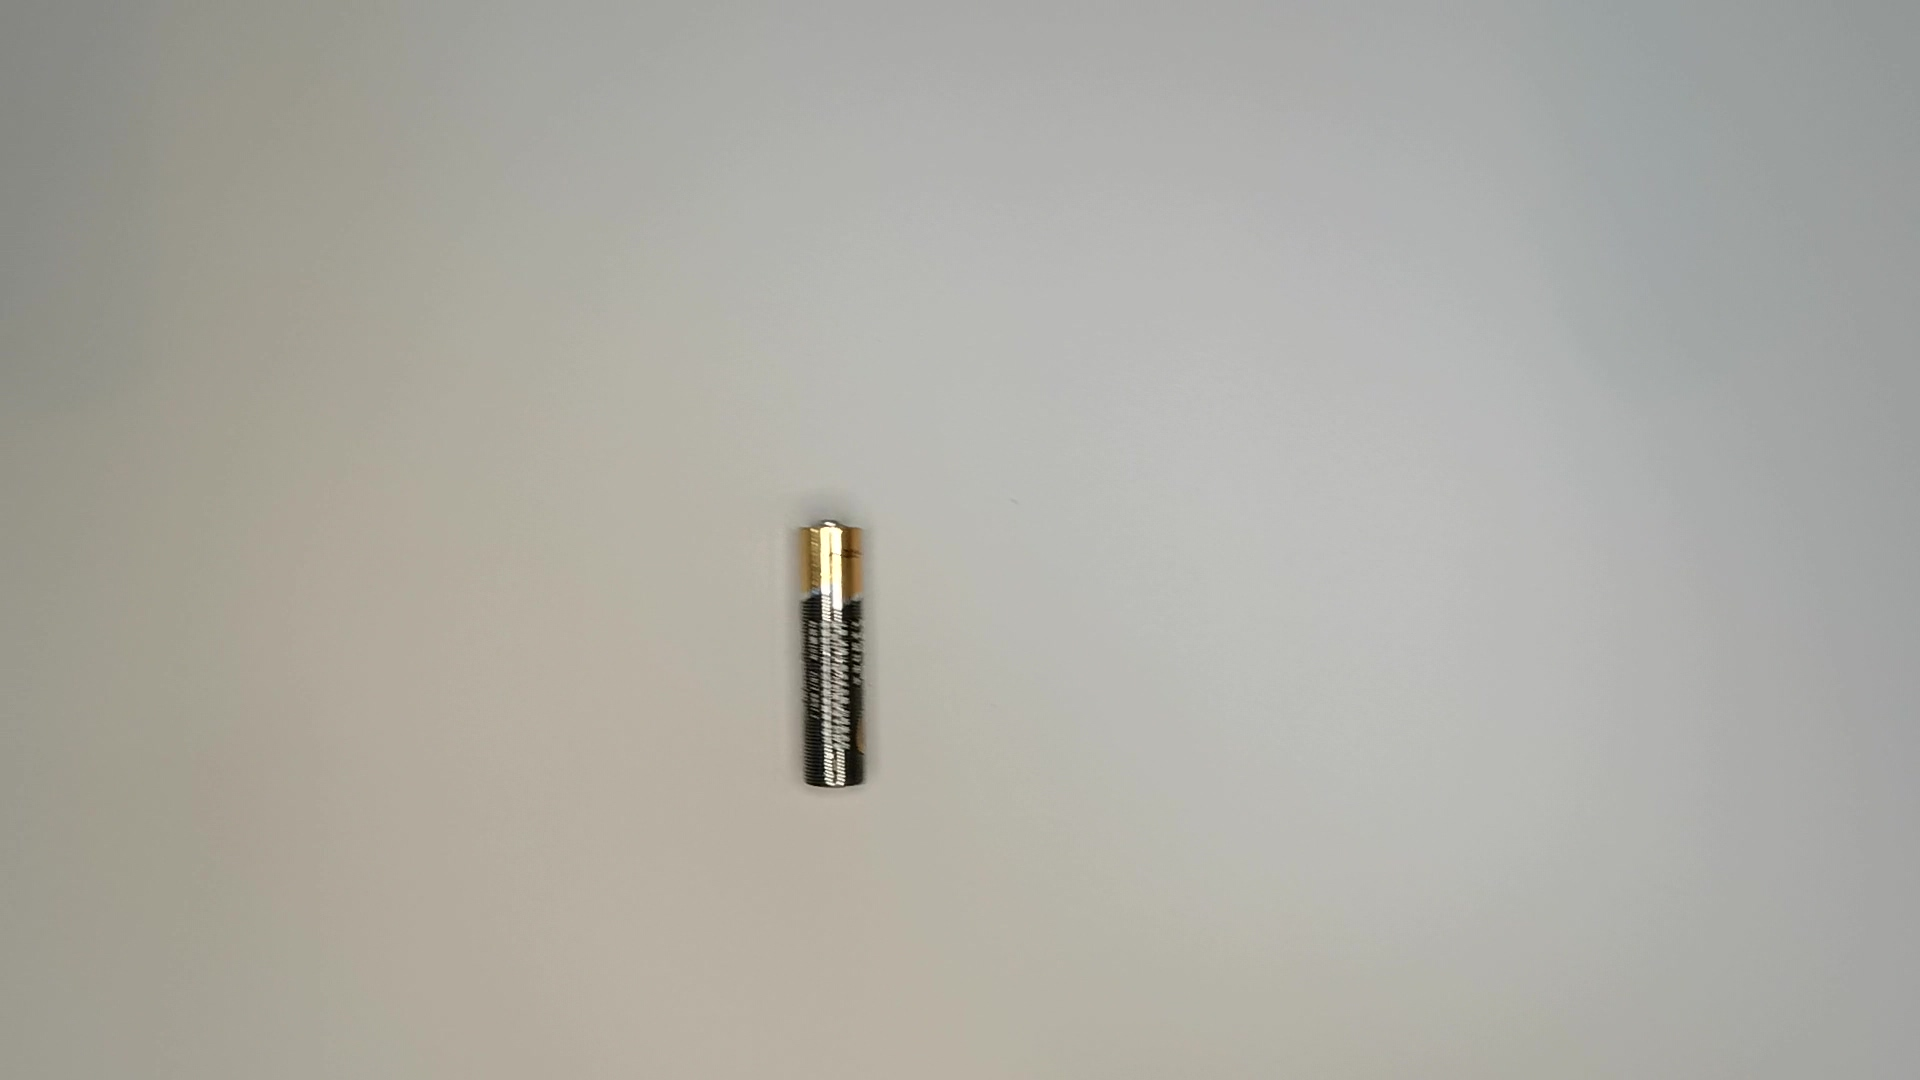battery: (793, 512, 877, 795)
